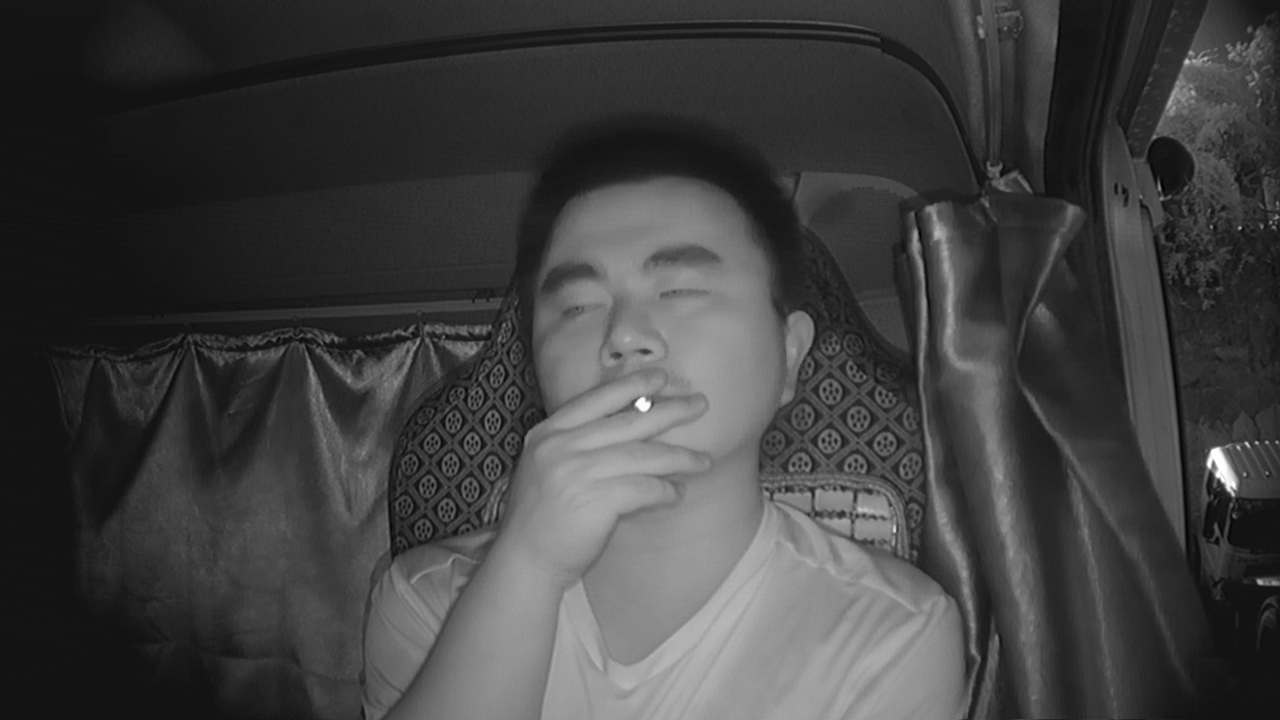hand: (548, 368, 707, 530)
